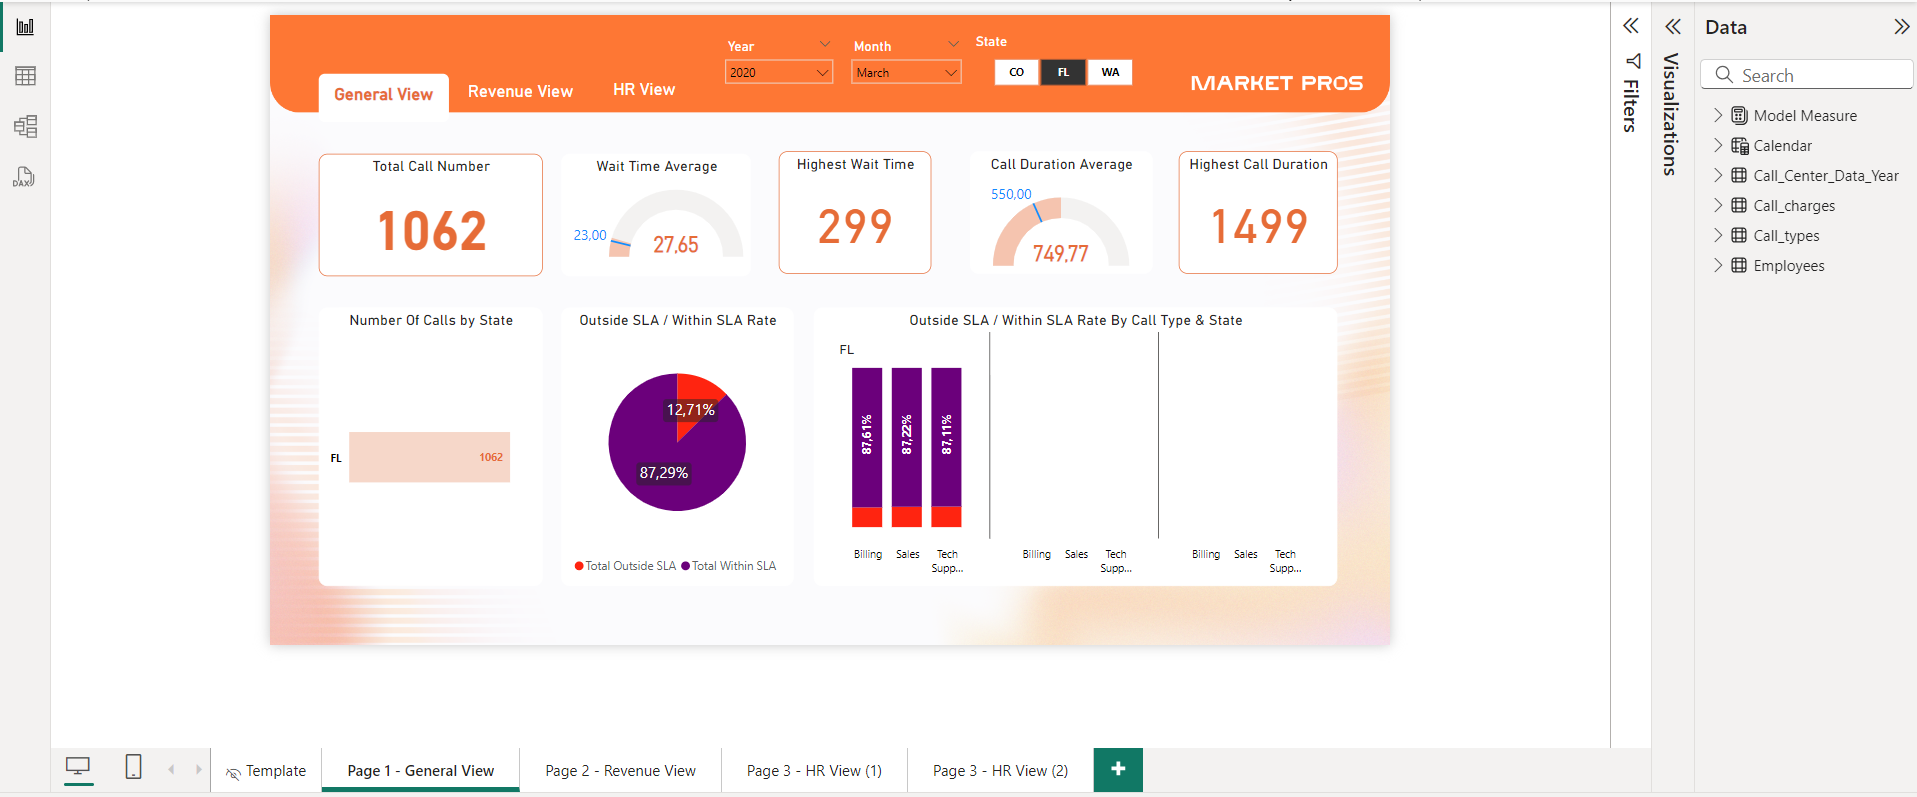

What the dashboard file says about the page in this screenshot:
{"tool":"powerbi","page":{"name":"Page 1 - General View","canvas":[1280,720],"ordinal":1},"visuals":[{"type":"slicer","fields":{"Values":["Calendar.Year"]},"box":[510,21.2,143.8,80],"z":0},{"type":"slicer","fields":{"Values":["Calendar.Month"]},"box":[655,21.2,146.2,78.8],"z":1000},{"type":"textbox","box":[56.2,67.5,148.8,55],"z":2000},{"type":"textbox","box":[216.2,71.2,141.2,31.2],"z":3000},{"type":"textbox","box":[357.5,68.8,141.2,31.2],"z":4000},{"type":"card","title":"Total Call Number","fields":{"Values":["Model Measure.Number Of Calls"]},"box":[55.7,158.6,255.7,140],"z":5000},{"type":"gauge","title":"Wait Time Average","fields":{"Y":["Model Measure.Average Wait Time"]},"box":[332.9,158.6,217.1,140],"z":6000},{"type":"slicer","title":"State","fields":{"Values":["Employees.State"]},"box":[801.2,21.2,208.8,66.2],"z":7000},{"type":"hundredPercentStackedColumnChart","title":"Outside SLA / Within SLA Rate By Call Type & State","fields":{"Category":["Call_types.Call Type Description"],"Y":["Model Measure.Total Outside SLA","Model Measure.Total Within SLA"],"Rows":["Employees.State"]},"box":[621.4,334.3,598.6,318.6],"z":8000},{"type":"gauge","title":"Call Duration Average","fields":{"Y":["Model Measure.Average Call Duration"]},"box":[800,155.7,208.6,140],"z":9000},{"type":"pieChart","title":"Outside SLA /  Within SLA Rate","fields":{"Y":["Model Measure.Total Outside SLA","Model Measure.Total Within SLA"]},"box":[332.9,334.3,265.7,318.6],"z":10000},{"type":"barChart","fields":{"Category":["Employees.State"],"Y":["Model Measure.Number Of Calls"]},"box":[55.7,334.3,255.7,318.6],"z":11000},{"type":"card","title":"Highest Wait Time","fields":{"Values":["Model Measure.Highest Wait Time"]},"box":[581.4,155.7,174.3,140],"z":12000},{"type":"card","title":"Highest Call Duration","fields":{"Values":["Model Measure.Highest Call Duration"]},"box":[1038.6,155.7,181.4,140],"z":13000}]}

Visuals, with their boxes on the page's 1280x720 design canvas (x1, y1, x2, y2). These are canvas units, not pixel positions in the 1917x797 screenshot, which may show the page scaled, cropped or inside an application window:
slicer - Calendar.Year: (510, 21, 654, 101)
slicer - Calendar.Month: (655, 21, 801, 100)
textbox: (56, 68, 205, 122)
textbox: (216, 71, 357, 102)
textbox: (358, 69, 499, 100)
"Total Call Number" card: (56, 159, 311, 299)
"Wait Time Average" gauge: (333, 159, 550, 299)
"State" slicer: (801, 21, 1010, 87)
"Outside SLA / Within SLA Rate By Call Type & State" hundredPercentStackedColumnChart: (621, 334, 1220, 653)
"Call Duration Average" gauge: (800, 156, 1009, 296)
"Outside SLA /  Within SLA Rate" pieChart: (333, 334, 599, 653)
barChart - Employees.State x Model Measure.Number Of Calls: (56, 334, 311, 653)
"Highest Wait Time" card: (581, 156, 756, 296)
"Highest Call Duration" card: (1039, 156, 1220, 296)
